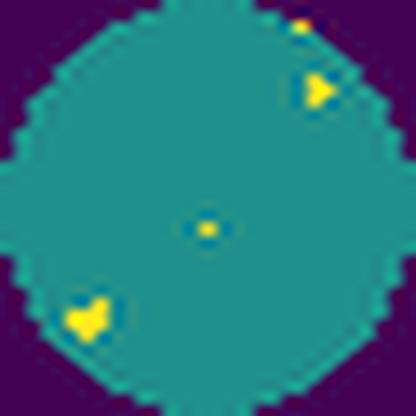Loc: (63, 291, 113, 346), (304, 73, 339, 112)
